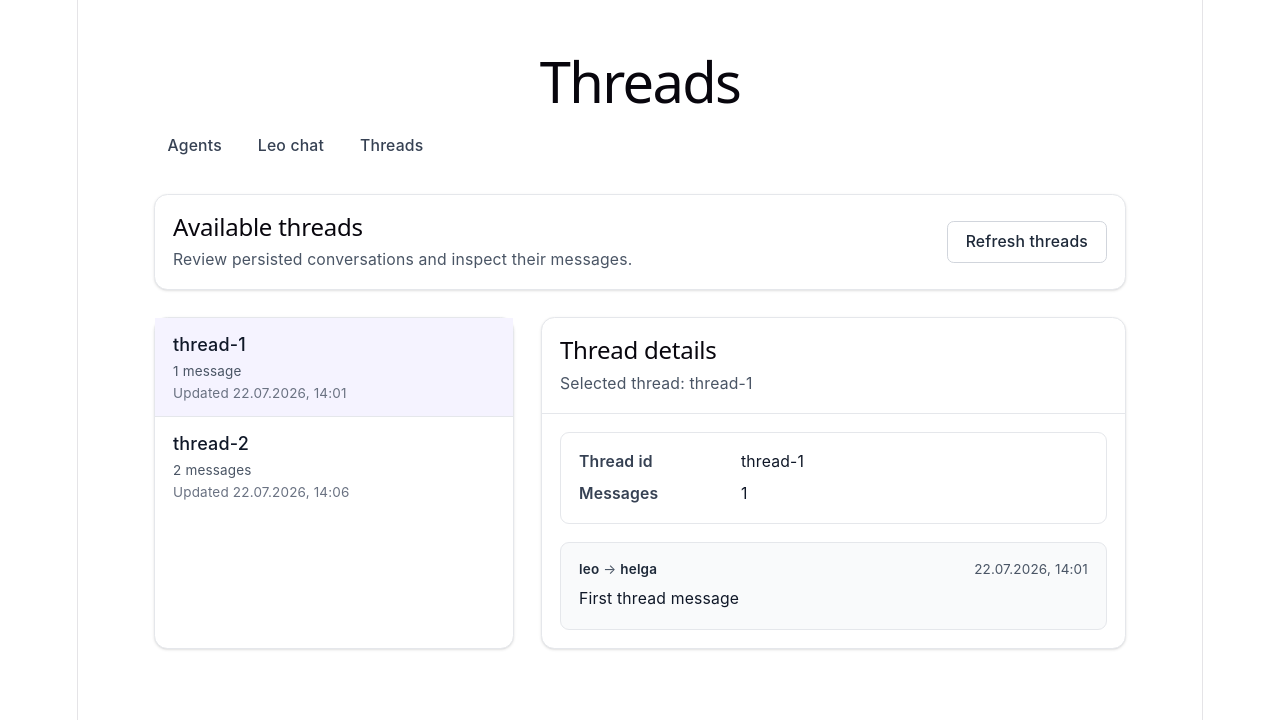
Scenario: ThreadsPage › loads threads and shows the selected thread messages
The width and height of the screenshot is (1280, 720).
Expected: the heading "Threads" is shown, [540,43,740,119]
Expected: the text "First thread message" is shown, [579,589,739,608]
Step 1. Click the button "thread-2 2 messages Updated 22.07.2026, 14:06" → (211, 443), box [155,418,513,516]
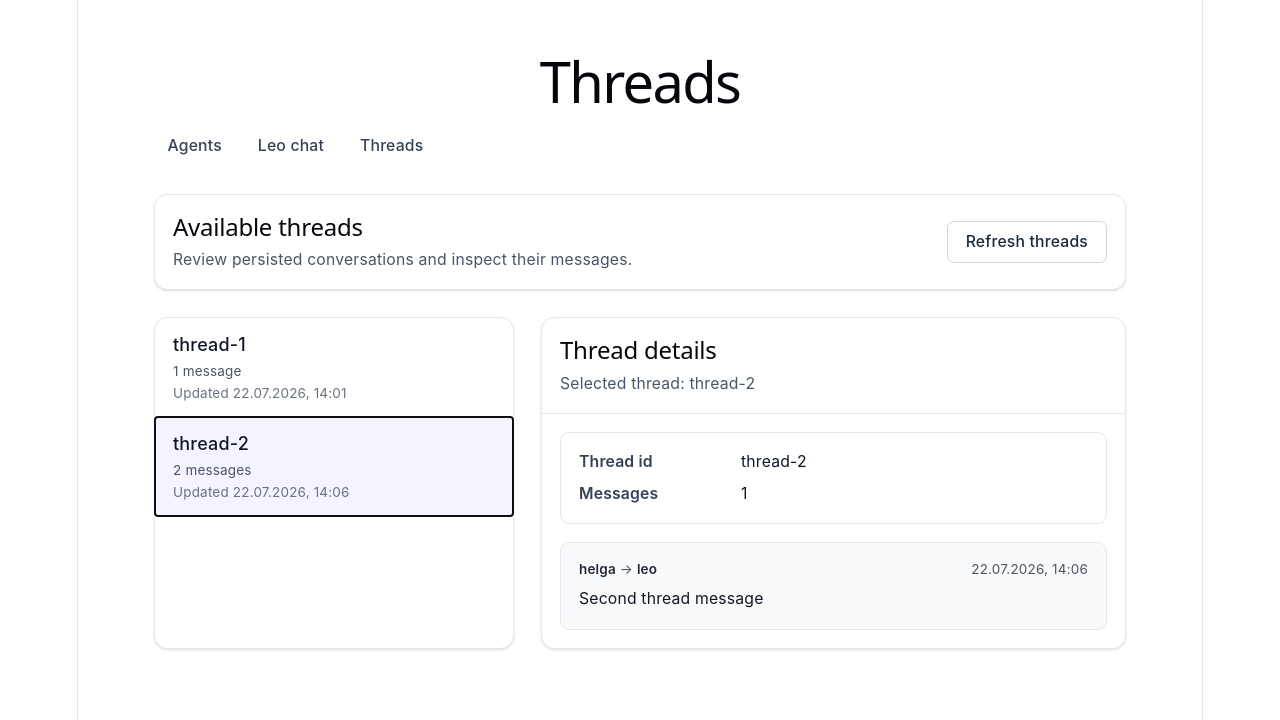
Expected: the text "Second thread message" is shown, [579,589,764,608]
